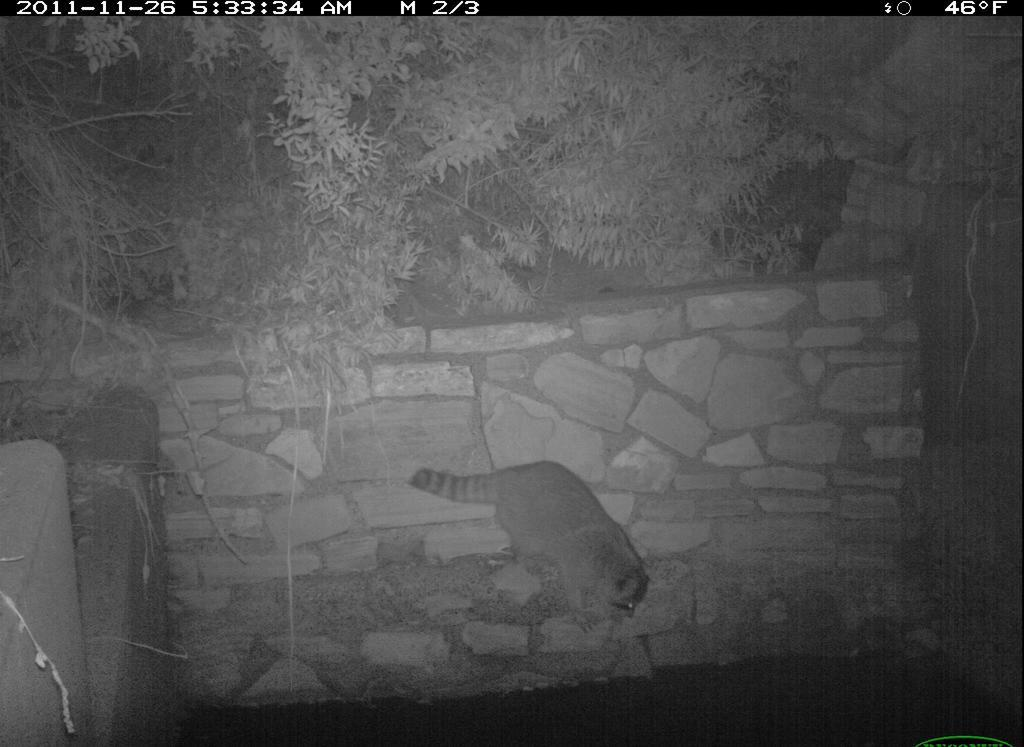raccoon: (400, 456, 657, 641)
